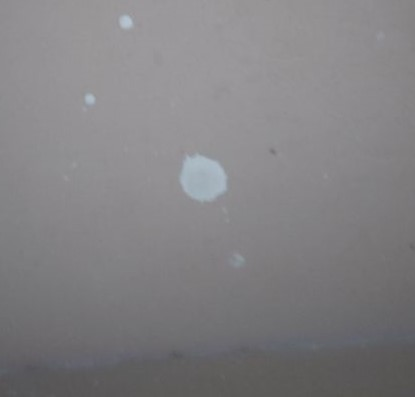grey spot: (178, 151, 226, 203), (117, 14, 133, 29), (84, 93, 95, 105)
